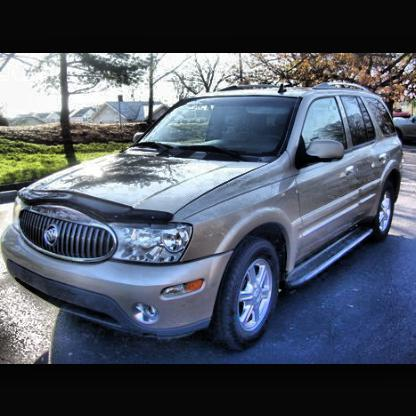Buick Rainier SUV 2007: (3, 80, 406, 353)
